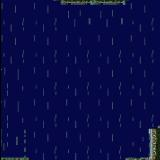Interaction: (142, 121, 160, 160), (0, 150, 32, 160), (120, 152, 142, 160)
Slow: (0, 0, 160, 127), (0, 126, 148, 156), (30, 157, 122, 160)
